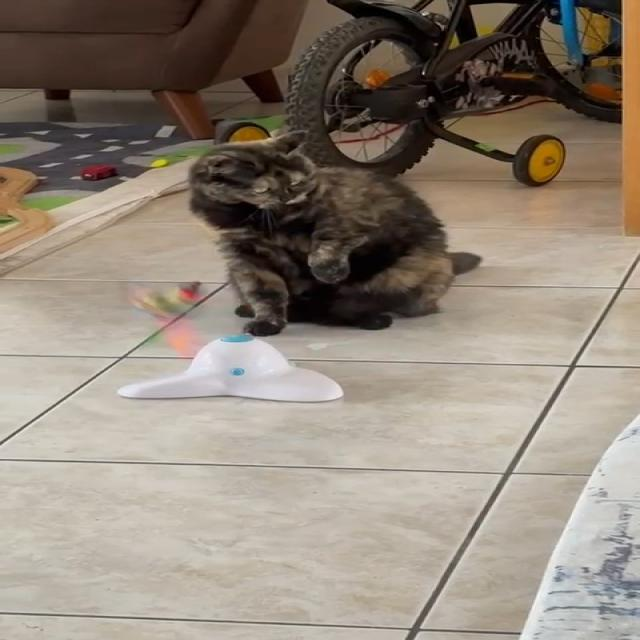authorized: (187, 129, 480, 337)
